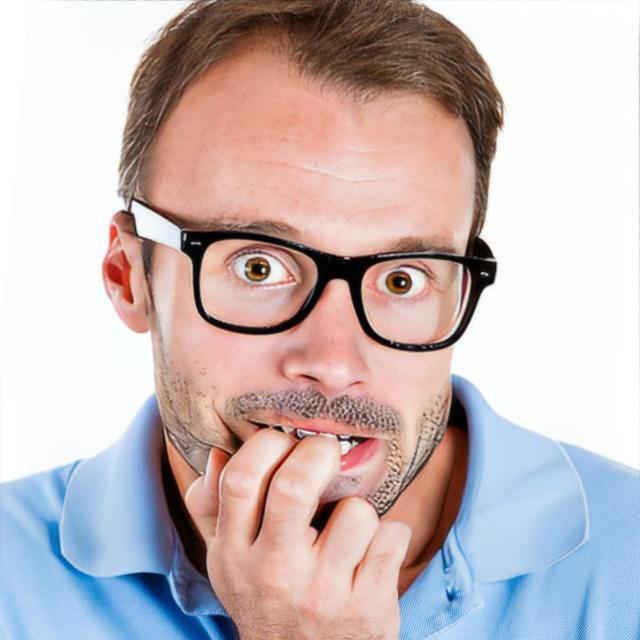fear: (150, 32, 479, 540)
